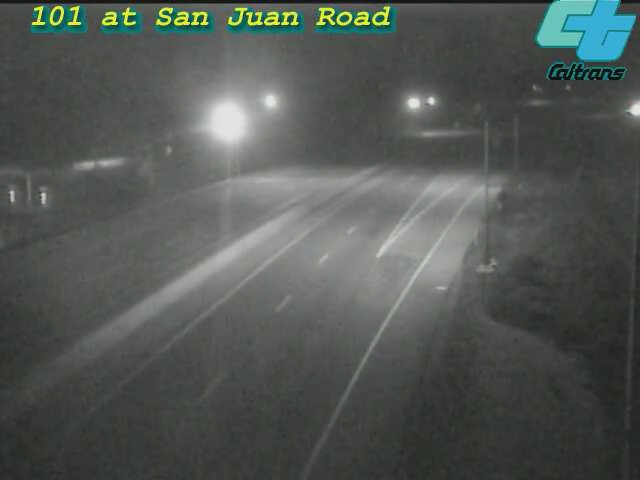vehicle: (608, 85, 640, 135)
